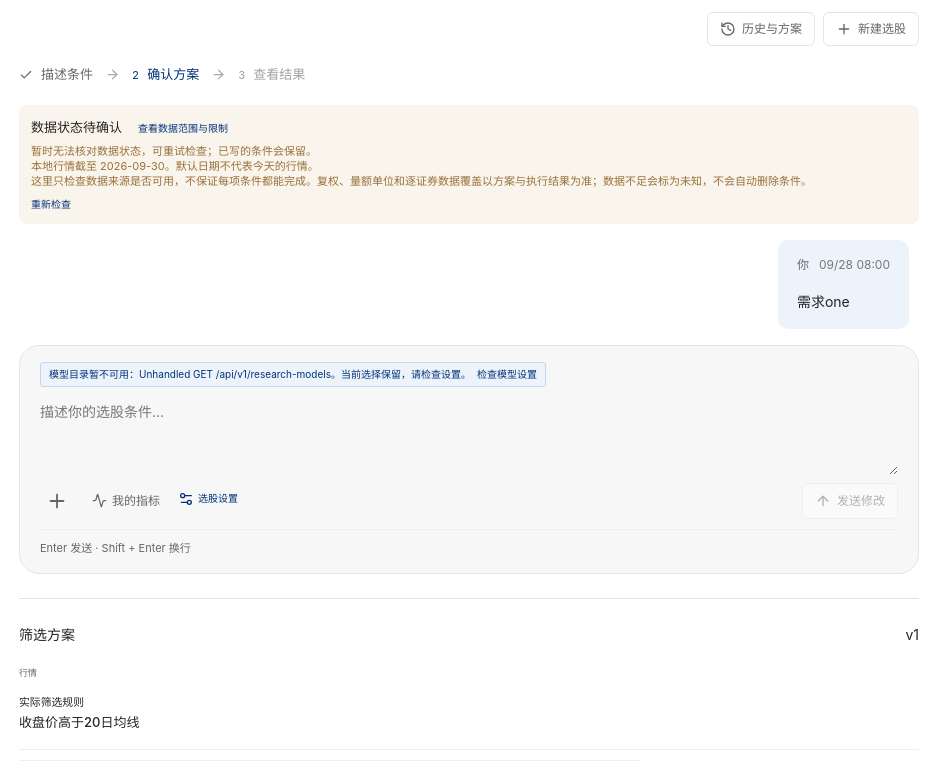
Test: screening product flow › does not auto-save default scope on loading an incomplete task and still allows a follow-up
Check: the heading "筛选方案" is shown, box [19,623,75,646]
In the text box labelled "描述你的选股条件…": (469, 435) [40,395,898,475], type "请继续完善条件"
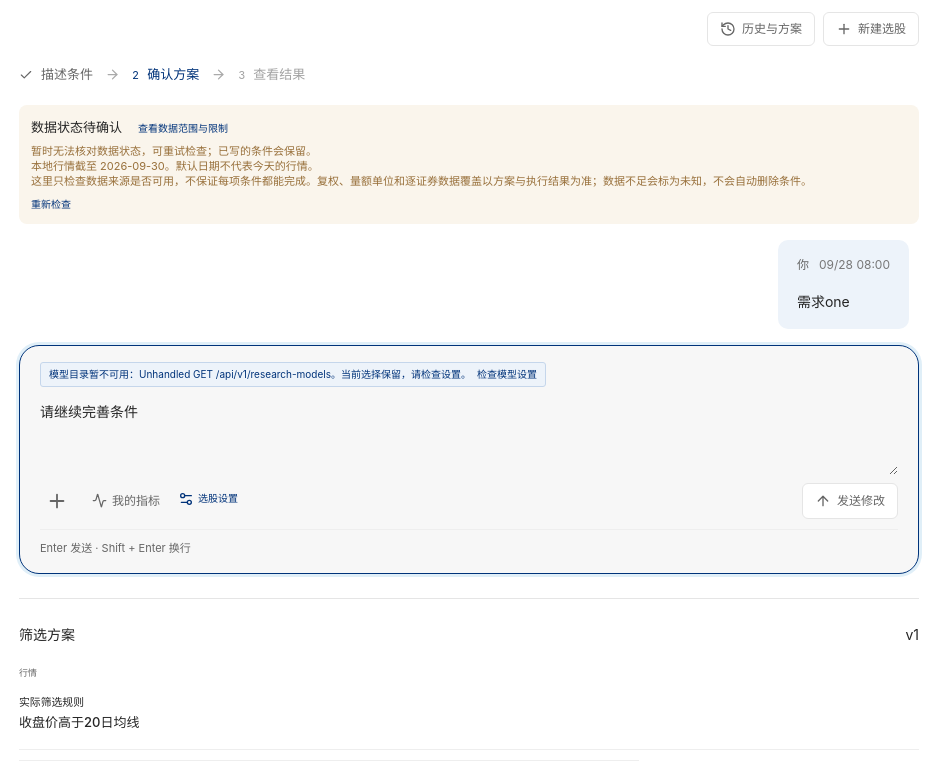
Check: the button "发送修改" is enabled, box [802,483,898,519]
